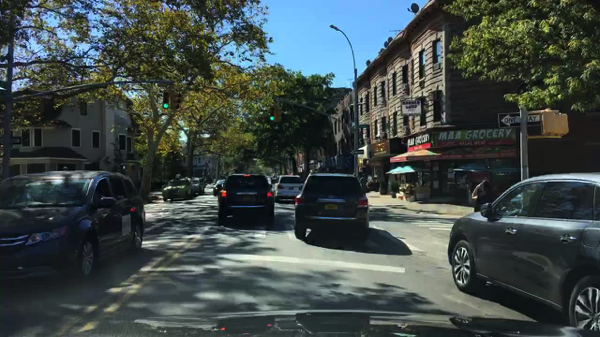car: (447, 172, 599, 334), (0, 171, 146, 279), (294, 173, 369, 243), (216, 173, 274, 226), (272, 175, 303, 202), (162, 179, 192, 199), (192, 179, 206, 195), (214, 179, 225, 197)
person: (471, 176, 490, 212), (475, 181, 498, 208), (359, 175, 367, 195)
traffic light: (527, 114, 569, 137), (171, 91, 182, 110), (162, 91, 168, 109), (277, 107, 282, 123), (270, 106, 275, 121), (121, 164, 129, 172), (362, 160, 371, 166)
traffic sign: (497, 110, 541, 128), (0, 138, 21, 145), (350, 150, 364, 155), (358, 124, 367, 128)
